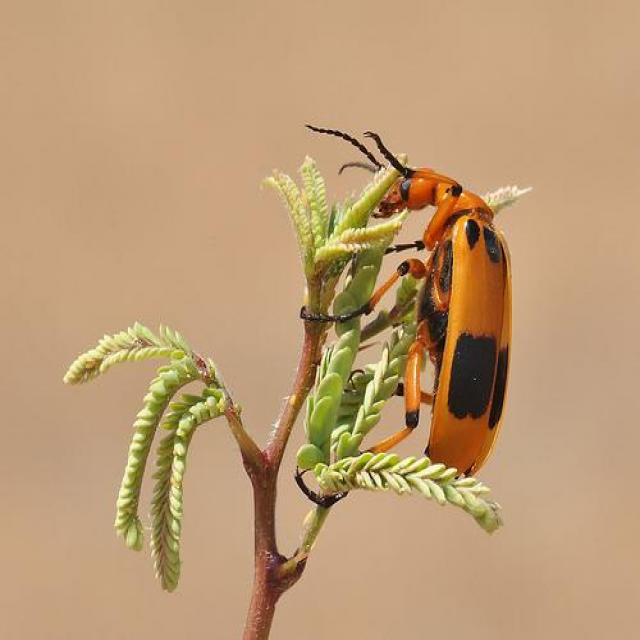BlisterBeetle-Adult-: (288, 110, 527, 512)
